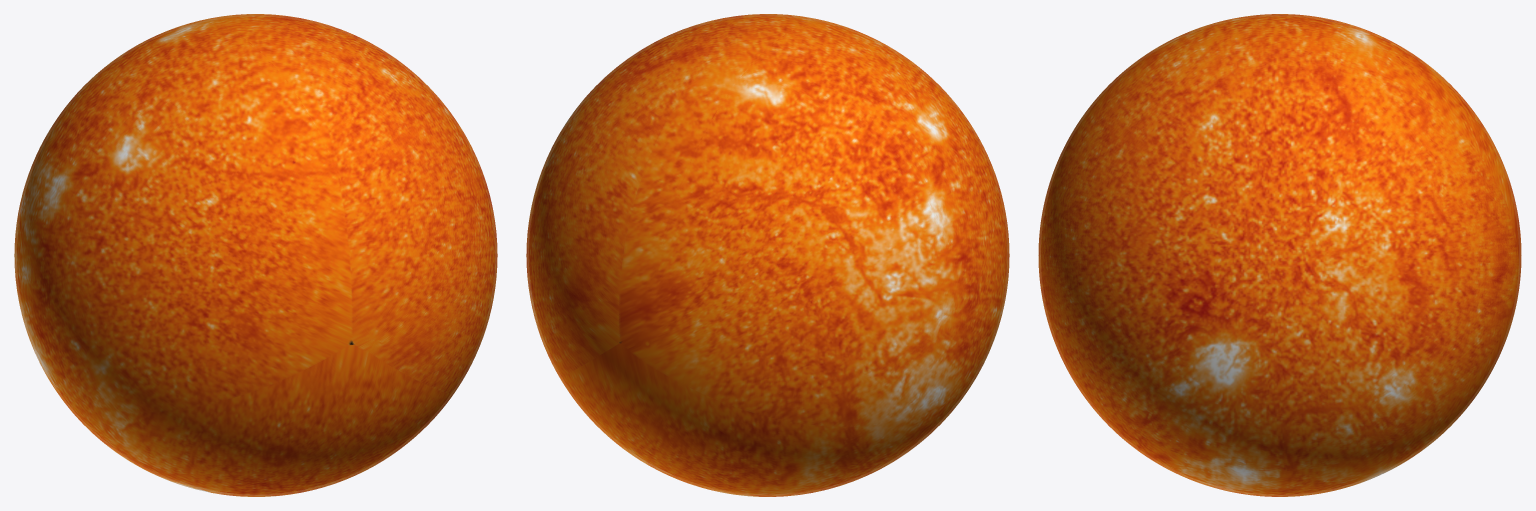
Rendered from sun.gltf.
The picture shows the model from 3 angles, left to right: view 1: azimuth 30°, elevation 25°; view 2: azimuth 150°, elevation 25°; view 3: azimuth 270°, elevation 25°; orthographic projection.
Visible parts, largest first — view 1: Object_2, Object_2.001; view 2: Object_2, Object_2.001; view 3: Object_2, Object_2.001.
Boxes of the visible parts, bbox=[...] form: Object_2: bbox=[14, 14, 497, 496]; Object_2.001: bbox=[17, 16, 494, 494]; Object_2: bbox=[526, 14, 1009, 496]; Object_2.001: bbox=[529, 16, 1006, 494]; Object_2: bbox=[1038, 14, 1521, 496]; Object_2.001: bbox=[1041, 16, 1518, 494].
Size of the model in its own units: 2 by 2 by 2.
Materials: 2 (2 with a texture image).
